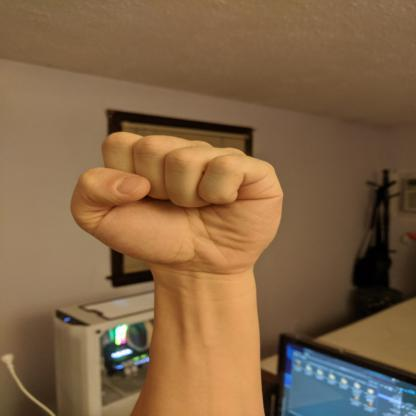S: (65, 127, 288, 277)
